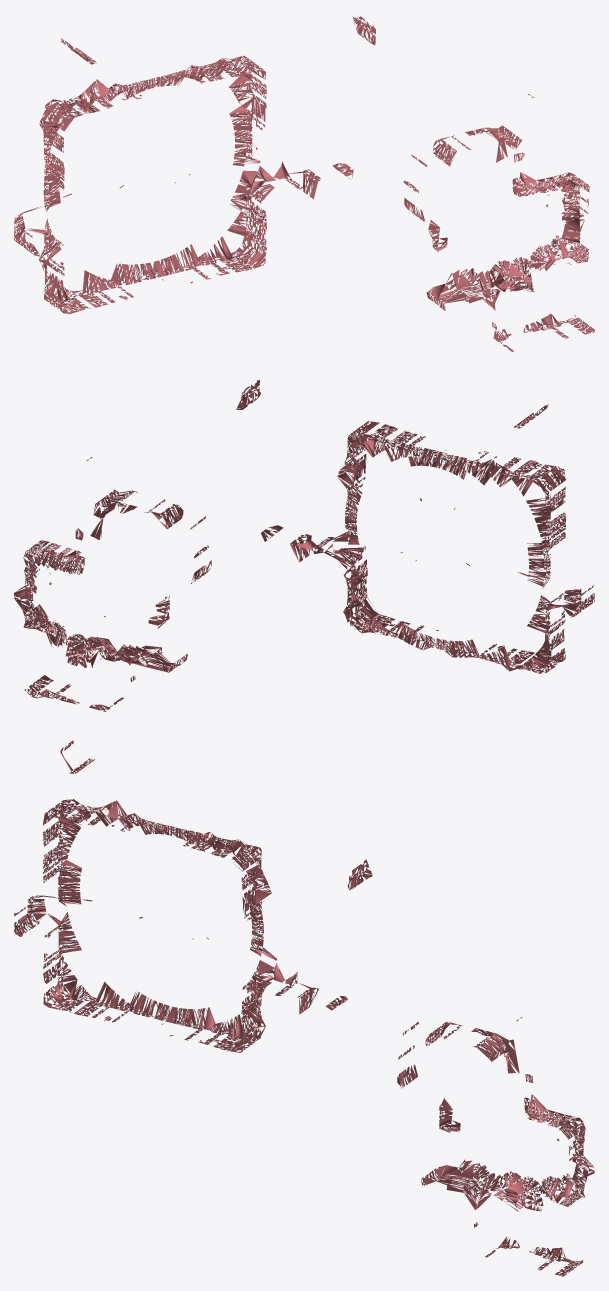
3 renders of one model, top to bottom at view 1: azimuth 30°, elevation 25°; view 2: azimuth 150°, elevation 25°; view 3: azimuth 330°, elevation 25°, orthographic.
Bounding box in the file's own units: 44.5 × 30.71 × 2.9.
